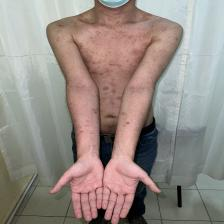DA: (81, 105, 100, 150), (122, 108, 134, 131)
